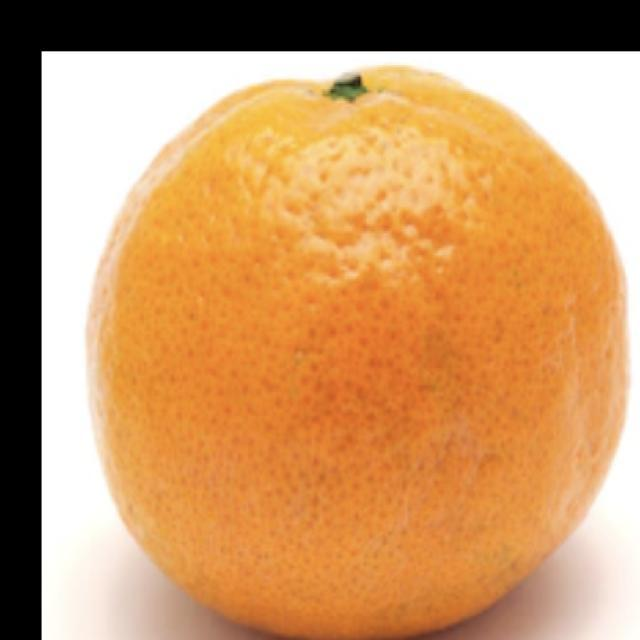Orange: (84, 63, 630, 639)
